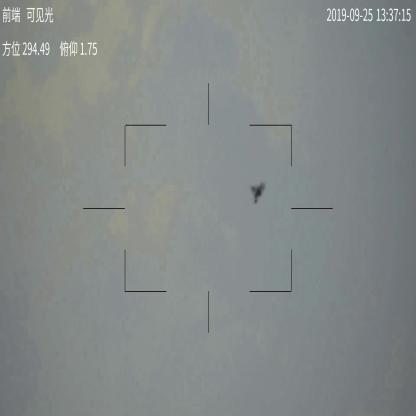uav: (250, 180, 266, 205)
